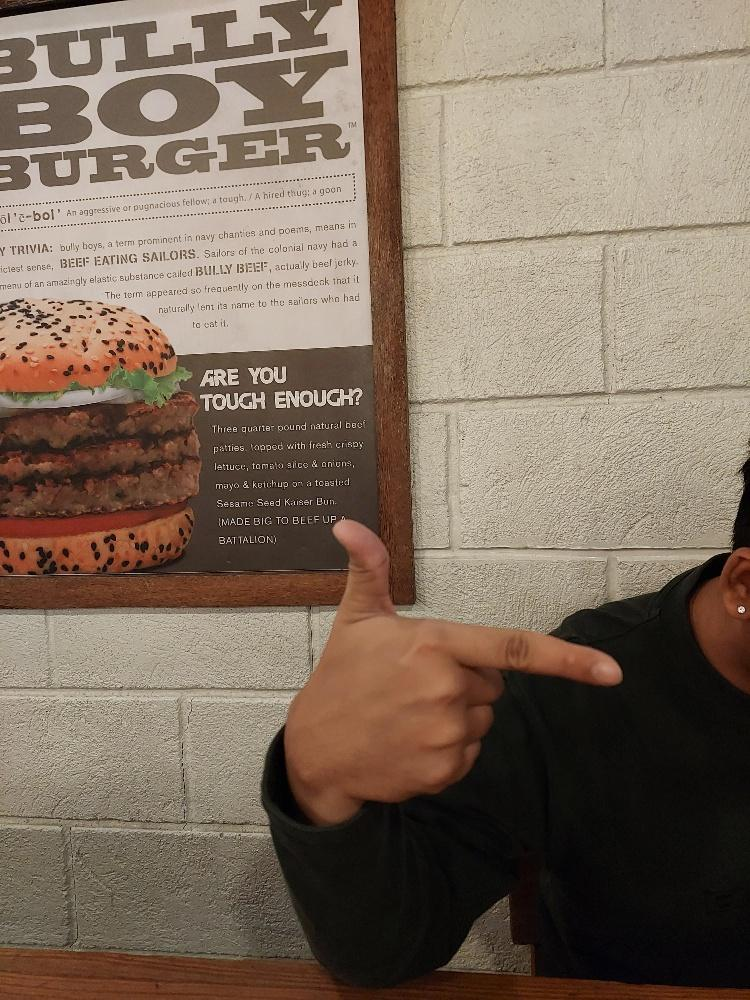g: (281, 516, 626, 803)
